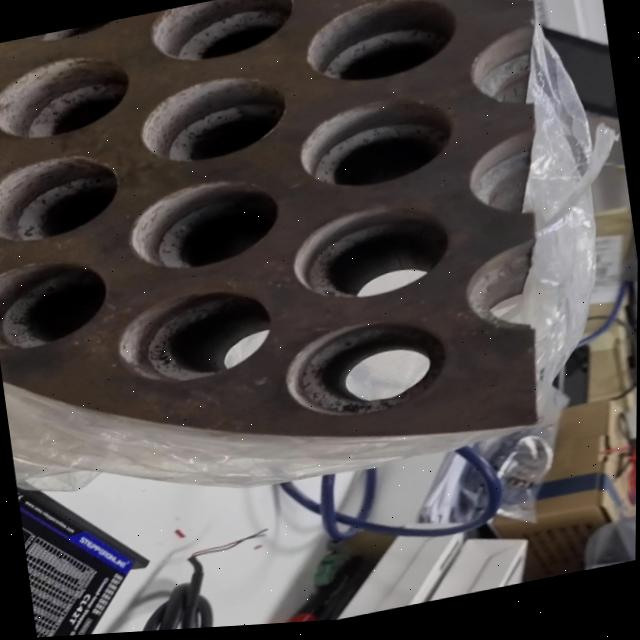Hole: (281, 312, 459, 433), (288, 197, 455, 314), (113, 281, 280, 394), (294, 92, 460, 202), (124, 171, 286, 281), (134, 68, 292, 174), (300, 0, 463, 97), (0, 45, 137, 148), (0, 145, 129, 250), (0, 250, 115, 354), (146, 0, 300, 73)
